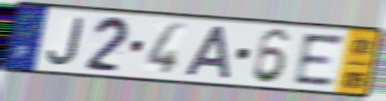2: (80, 13, 134, 75)
4: (144, 20, 184, 77)
6: (251, 27, 294, 86)
A: (183, 24, 233, 81)
E: (292, 32, 346, 87)
J: (46, 16, 87, 67)
